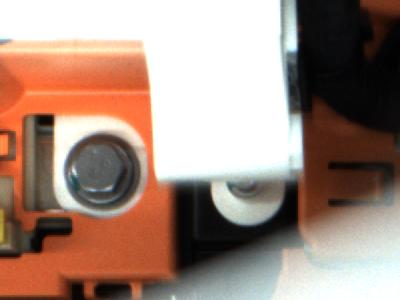nut_b: (63, 133, 138, 208)
